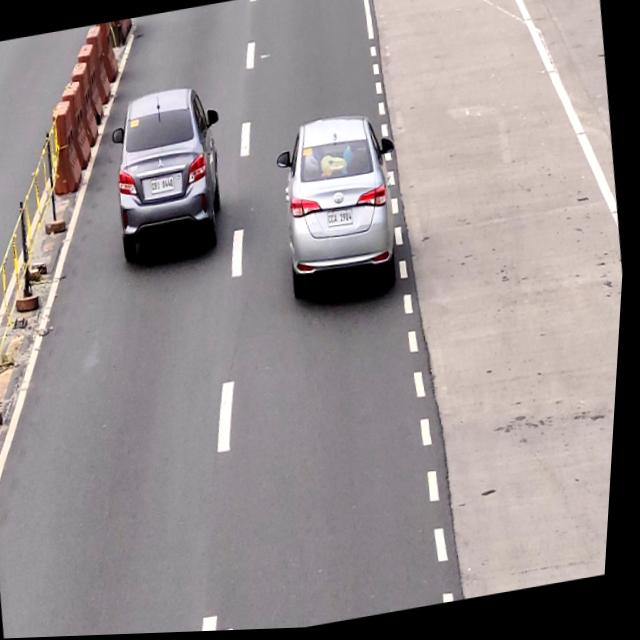Car: (272, 108, 411, 313), (107, 87, 232, 269)
License-Plate: (150, 175, 178, 198), (330, 211, 358, 231)
